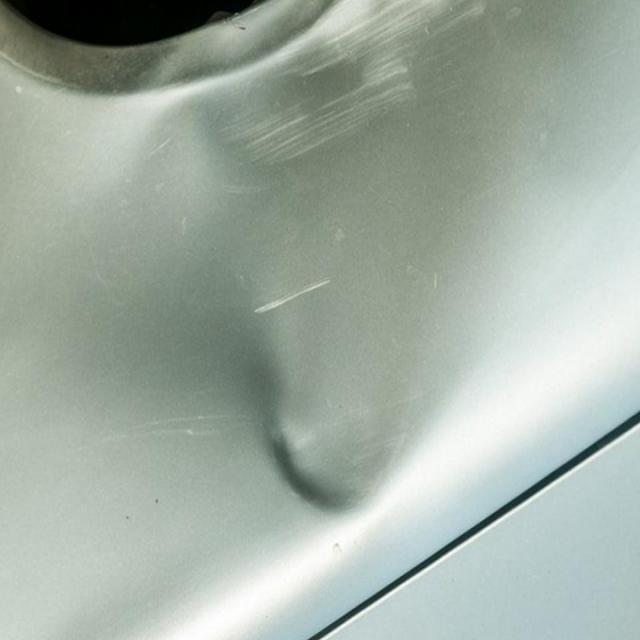dent: (246, 324, 414, 536)
